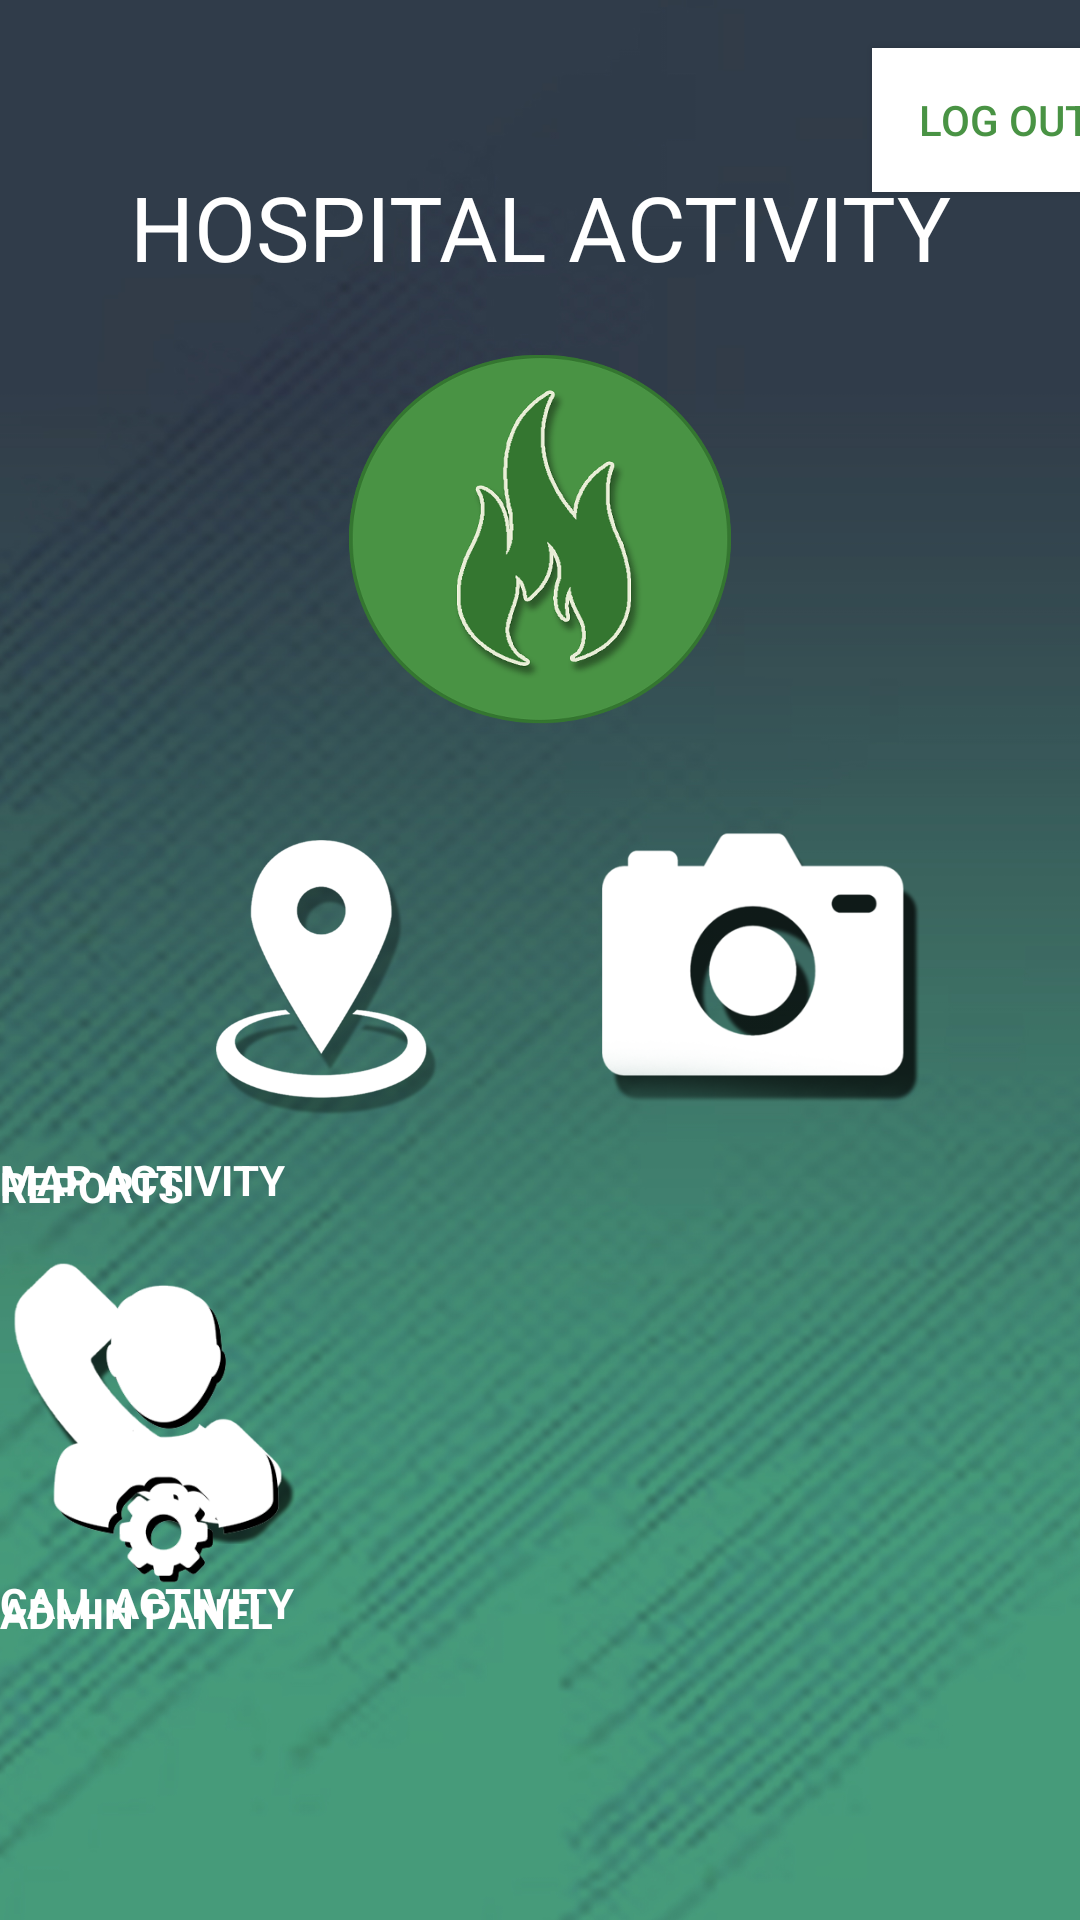

Icons on this 1080px×1920px Android screen, each with its box as box=[x1, y1, x2, y2]:
locate: box=[161, 811, 482, 1121]
